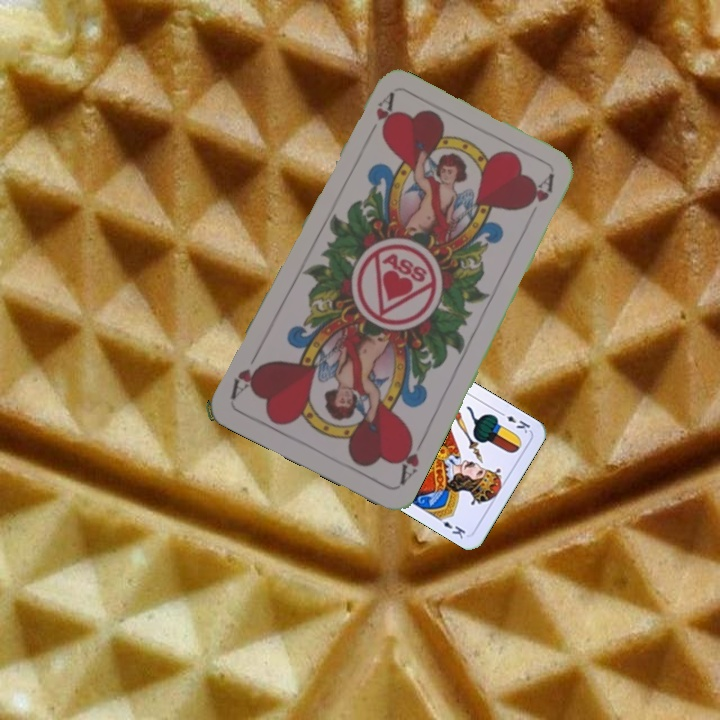EK: (495, 407, 533, 436)
HA: (393, 432, 428, 488), (371, 90, 397, 135)
